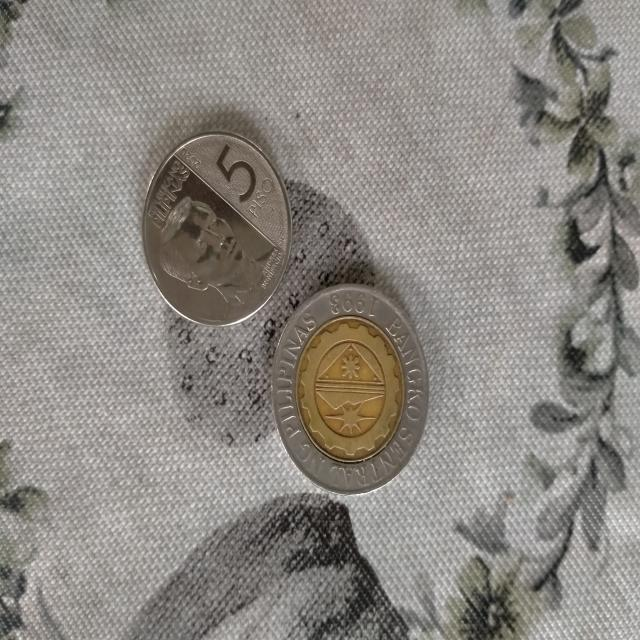10_Old_Back: (274, 285, 428, 496)
5_New_Front: (208, 144, 278, 214)
